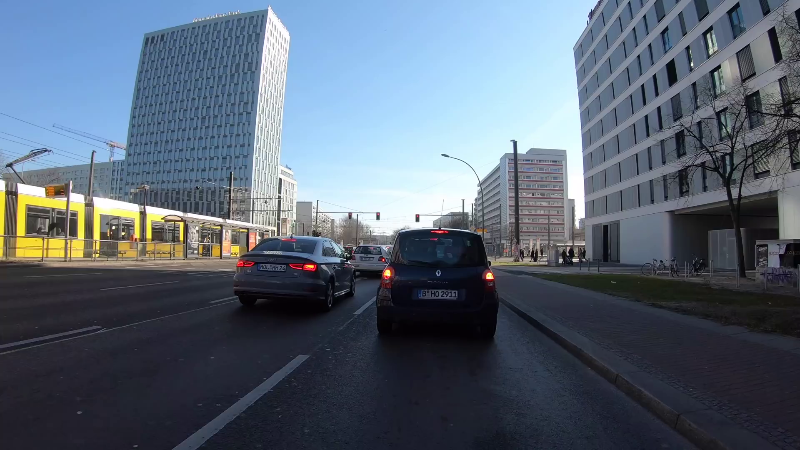Plate: (413, 286, 460, 301), (254, 261, 289, 275)
